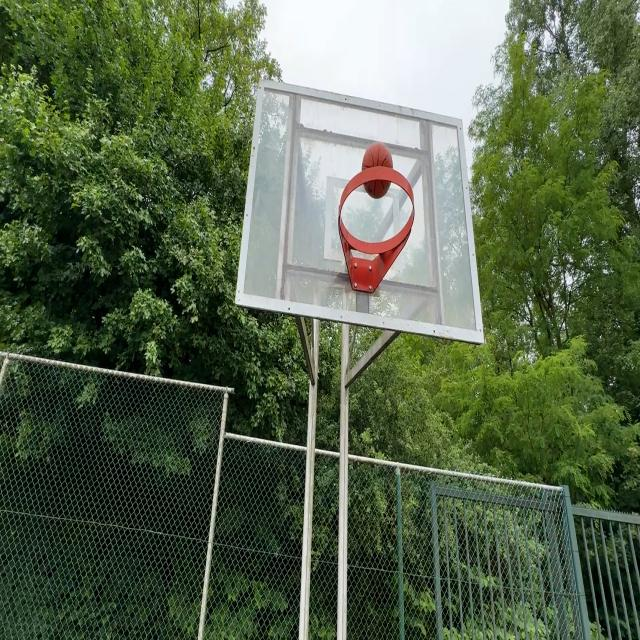rebound_hit: (362, 142, 393, 198)
